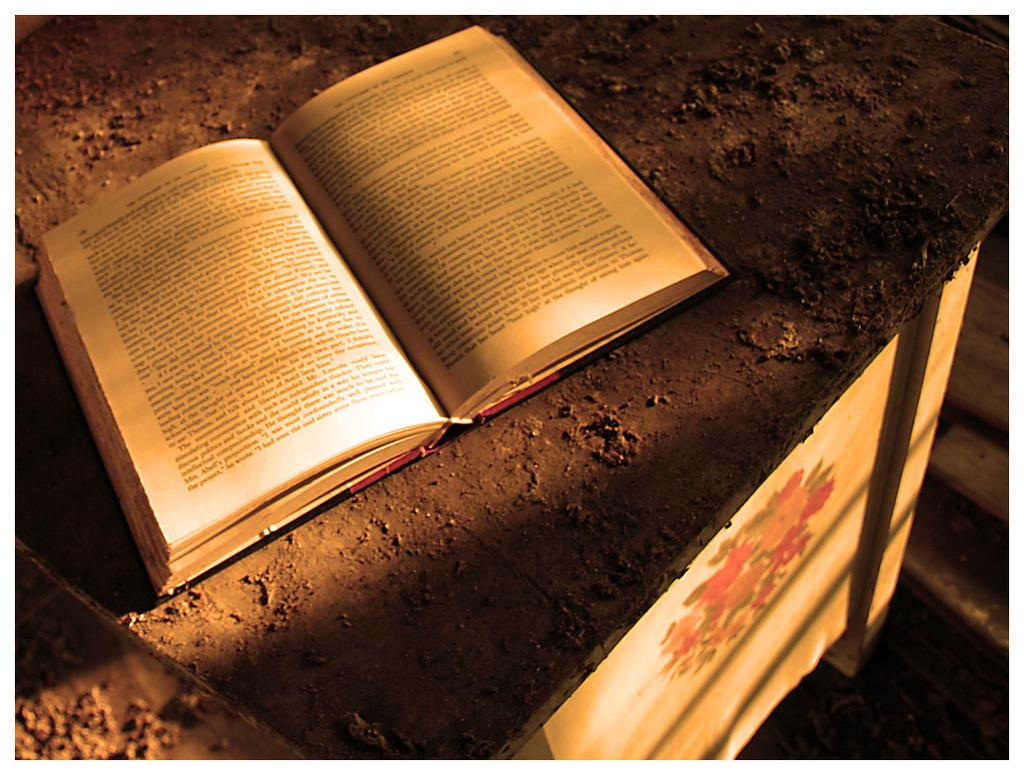book: (76, 68, 855, 678)
